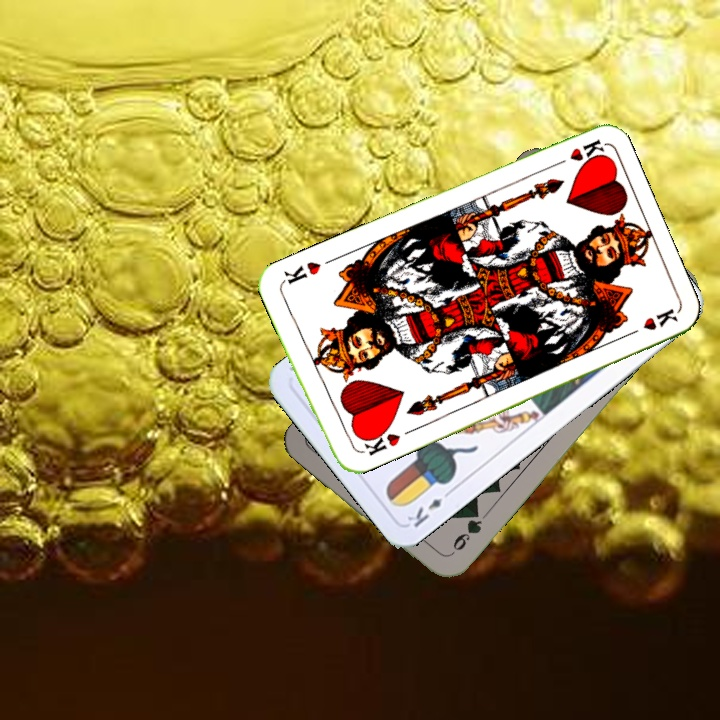EK: (403, 485, 456, 530)
G9: (445, 505, 485, 559)
HK: (547, 135, 607, 170), (357, 423, 403, 458)
